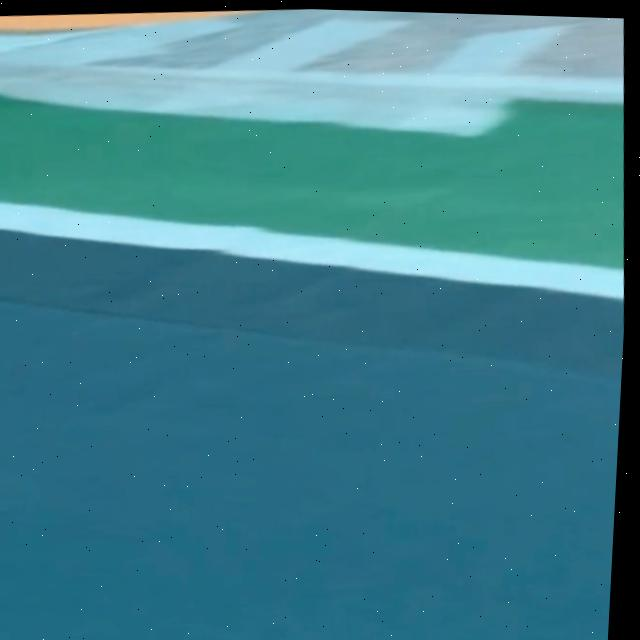right: (0, 204, 624, 301)
